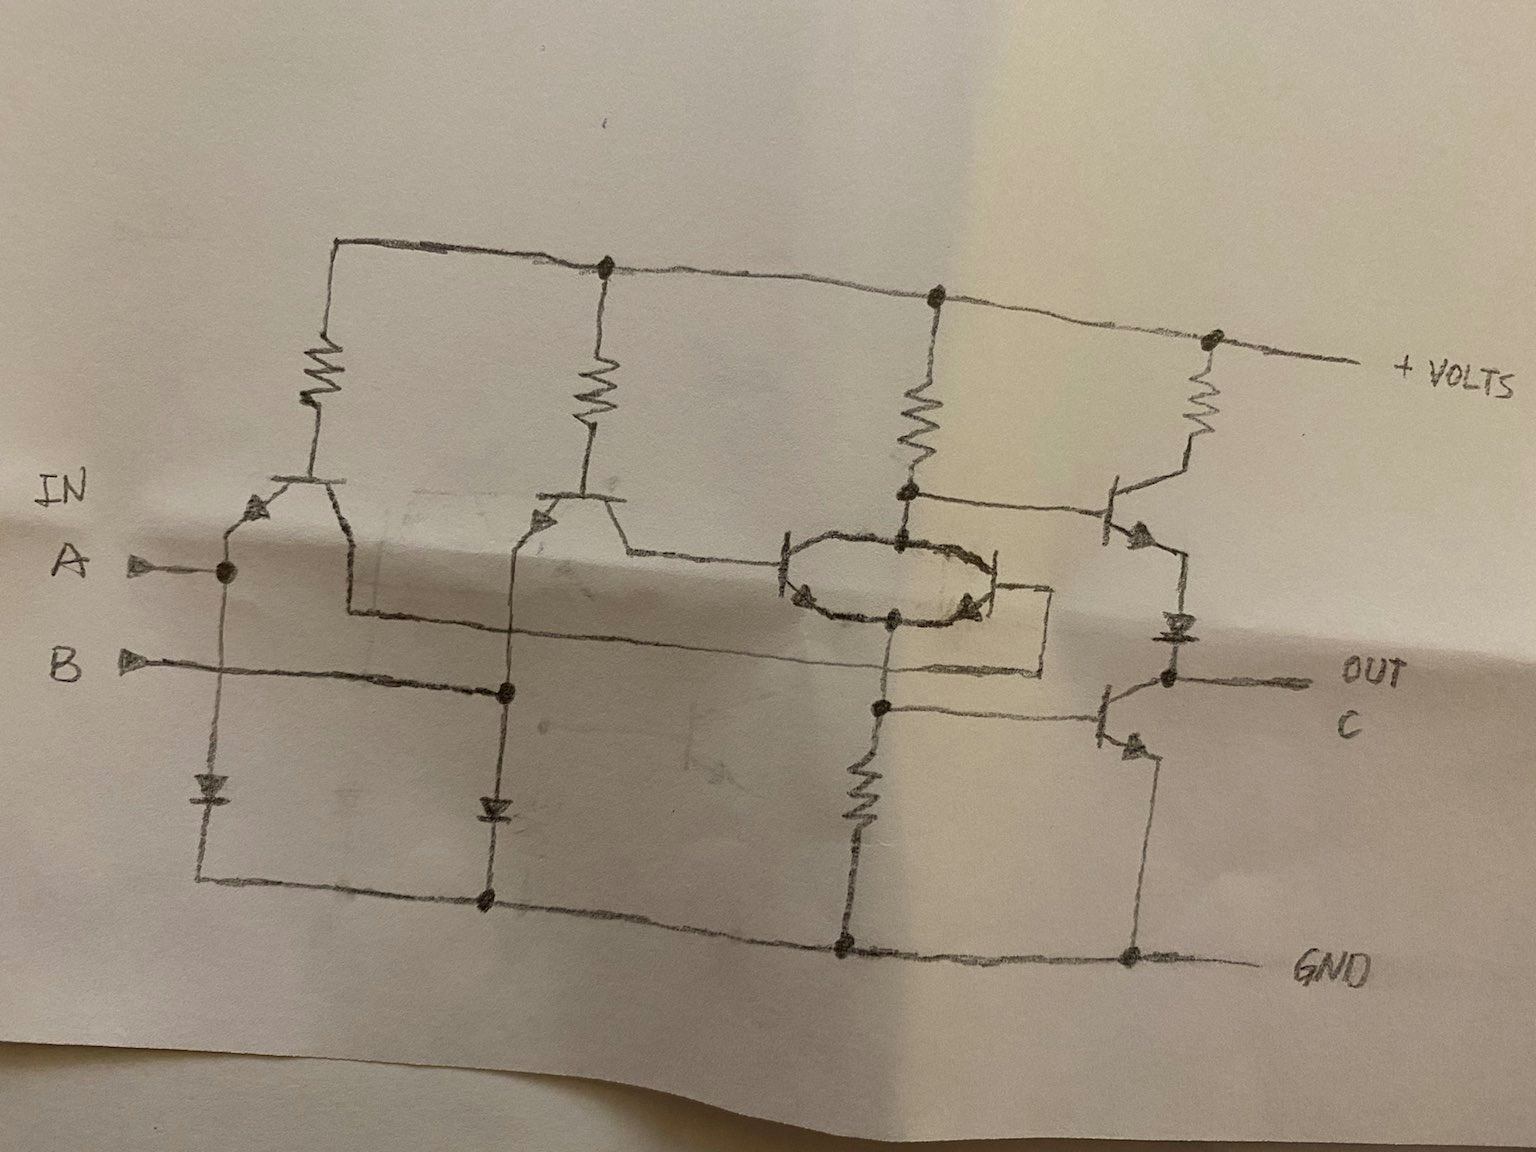diode: (179, 761, 239, 816), (1148, 601, 1209, 653), (470, 785, 520, 836)
junction: (809, 917, 868, 972), (1101, 928, 1151, 979), (916, 270, 963, 318), (463, 875, 513, 921), (871, 595, 913, 643), (583, 244, 626, 287), (481, 672, 526, 712), (1015, 651, 1059, 691), (1190, 319, 1235, 357), (884, 522, 922, 566), (335, 589, 376, 628), (181, 856, 219, 897), (489, 611, 532, 646), (891, 476, 932, 512), (1030, 572, 1066, 611), (1151, 659, 1186, 697), (204, 555, 242, 589), (321, 226, 356, 261), (861, 695, 903, 724), (871, 650, 903, 685), (207, 656, 239, 686)
resistor: (291, 323, 350, 414), (567, 349, 624, 439), (841, 747, 890, 845), (895, 375, 943, 470), (1178, 365, 1236, 443)
terminal: (1306, 340, 1379, 380), (1217, 945, 1281, 983), (111, 644, 171, 680), (1274, 663, 1330, 699), (120, 551, 177, 586)
text: (1288, 939, 1375, 998), (1425, 353, 1518, 407), (30, 461, 89, 515), (1336, 649, 1410, 690), (44, 641, 89, 690), (50, 538, 91, 584), (1333, 707, 1365, 743), (1390, 351, 1417, 382)
transistor: (216, 465, 363, 548), (498, 480, 646, 558), (1095, 462, 1190, 561), (769, 518, 841, 627), (935, 532, 1001, 638), (1089, 675, 1157, 765)
